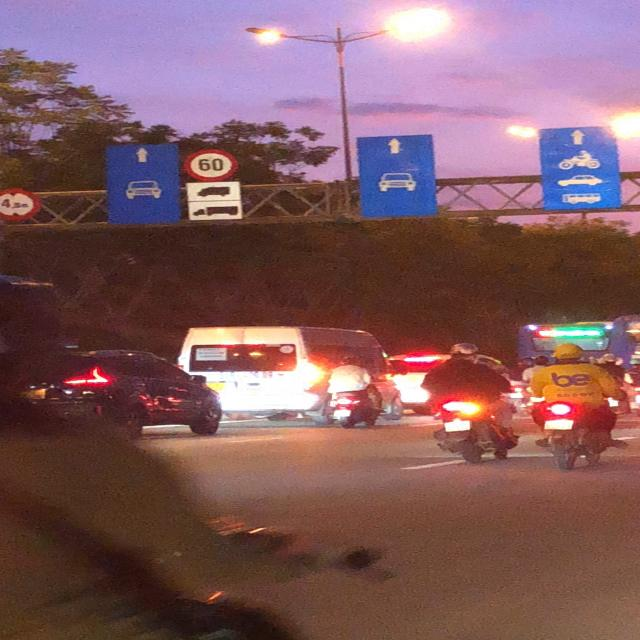Bien bao han che chieu cao: (0, 186, 49, 224)
Bien bao toc do toi da cho phep: (177, 146, 245, 183)
